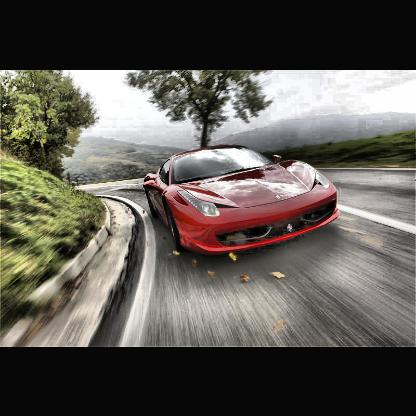Ferrari 458 Italia Coupe 2012: (143, 145, 343, 259)
